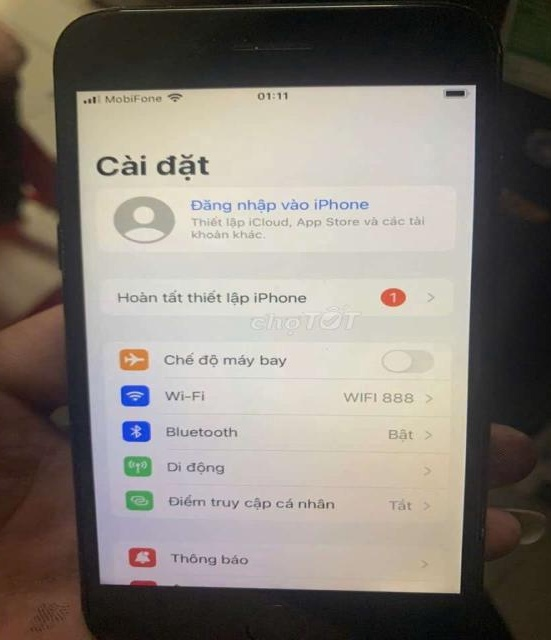scratch: (238, 33, 265, 55)
